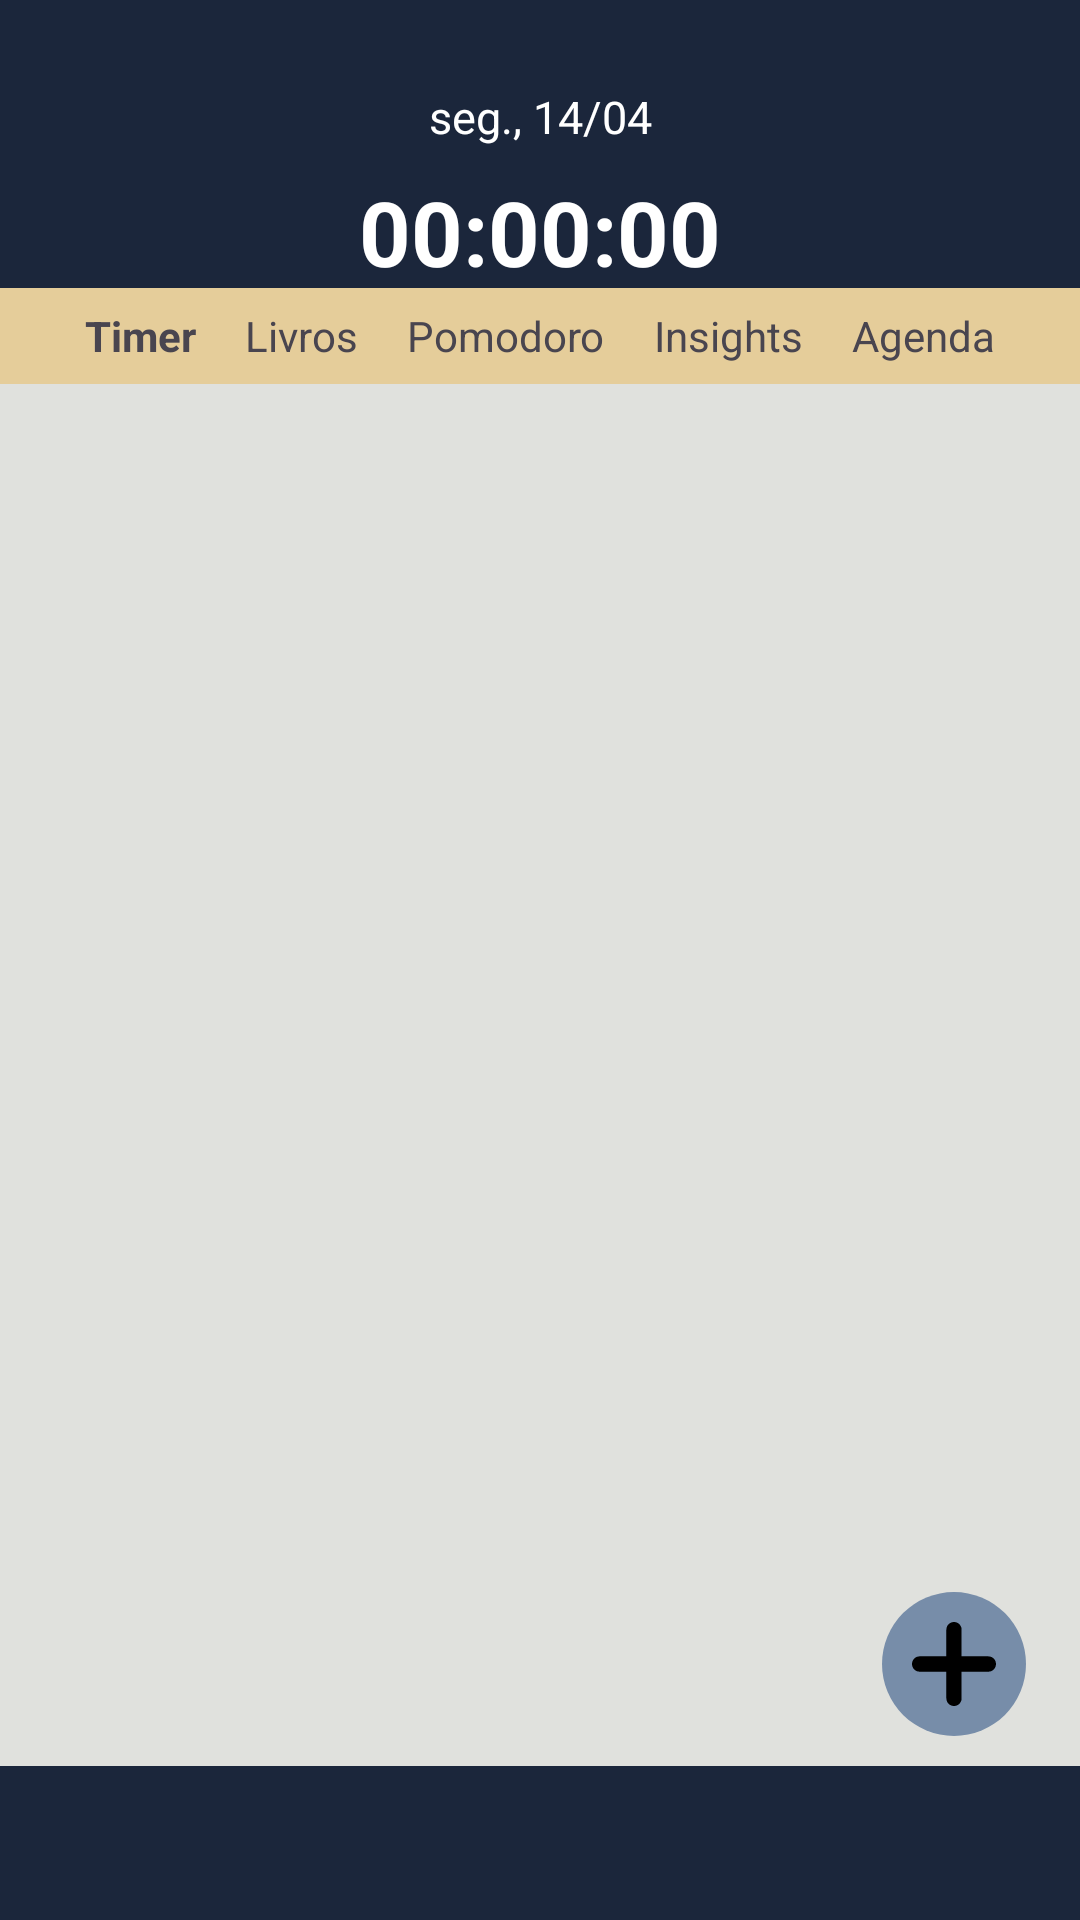

Where icons sit on this 1080px x 1920px app screen, as (x1, y1, x2, y2):
Add: (882, 1592, 1026, 1736)
